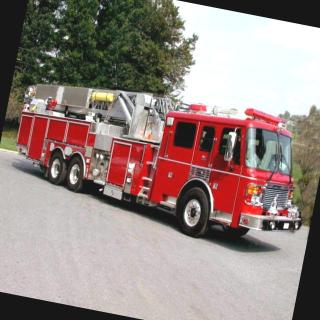Fire_truck: (3, 64, 320, 257)
